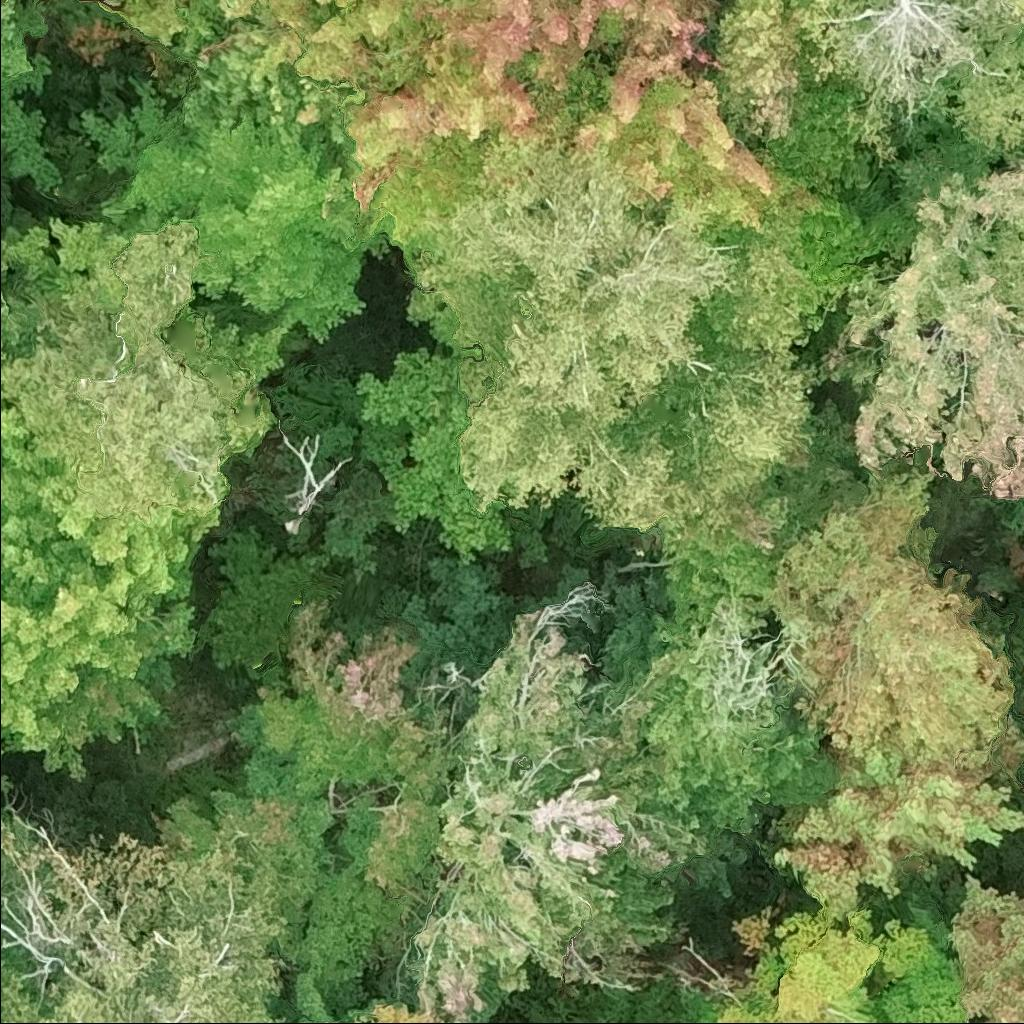crown: (417, 136, 818, 533), (265, 0, 824, 272), (411, 600, 711, 1023), (756, 461, 1023, 917), (76, 64, 385, 349), (813, 144, 1023, 502), (146, 752, 419, 1023), (0, 471, 234, 785), (0, 219, 228, 527), (225, 600, 457, 890), (598, 597, 842, 834), (0, 842, 297, 1023), (352, 304, 511, 565), (792, 0, 1023, 164), (669, 900, 973, 1023), (717, 0, 817, 149), (950, 867, 1023, 1023), (318, 991, 471, 1023), (0, 236, 41, 355), (0, 401, 65, 474), (0, 760, 20, 914), (0, 339, 15, 373), (286, 1011, 311, 1023), (0, 930, 3, 1023)
